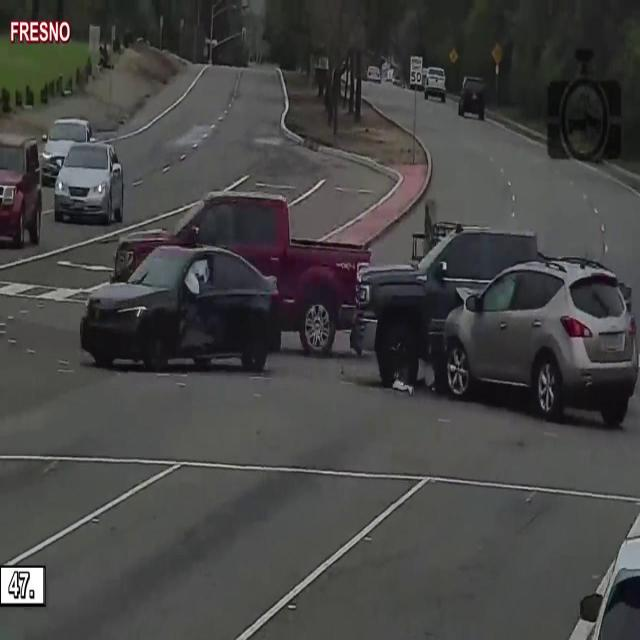accident: (347, 195, 640, 435), (77, 224, 291, 403)
